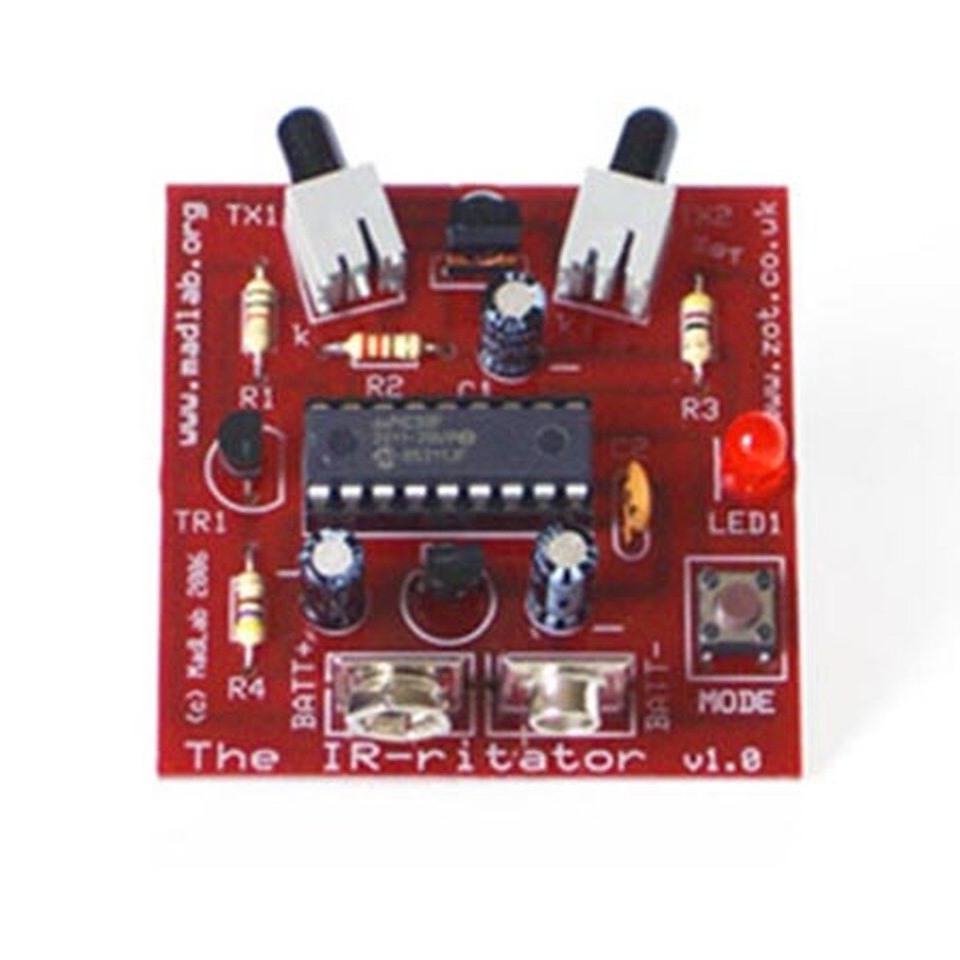Capacitor: (524, 520, 600, 634), (475, 272, 549, 382), (296, 526, 368, 631)
LED: (717, 412, 793, 504)
Resistor: (230, 566, 269, 649), (679, 291, 717, 370), (345, 329, 425, 363), (242, 276, 276, 355)
